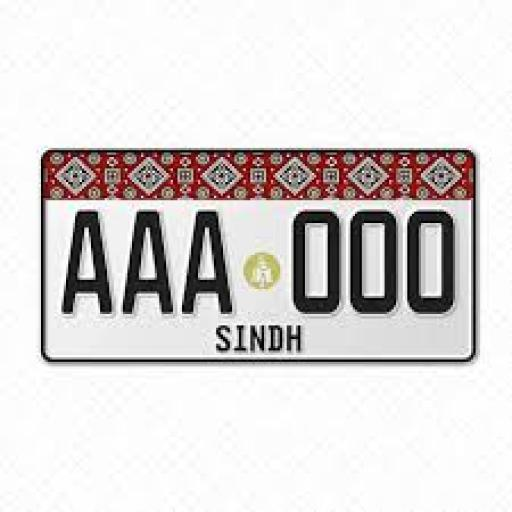0: (294, 208, 344, 320), (407, 208, 454, 320), (350, 214, 396, 324)
A: (55, 206, 112, 318), (122, 212, 175, 317), (181, 206, 235, 308)
